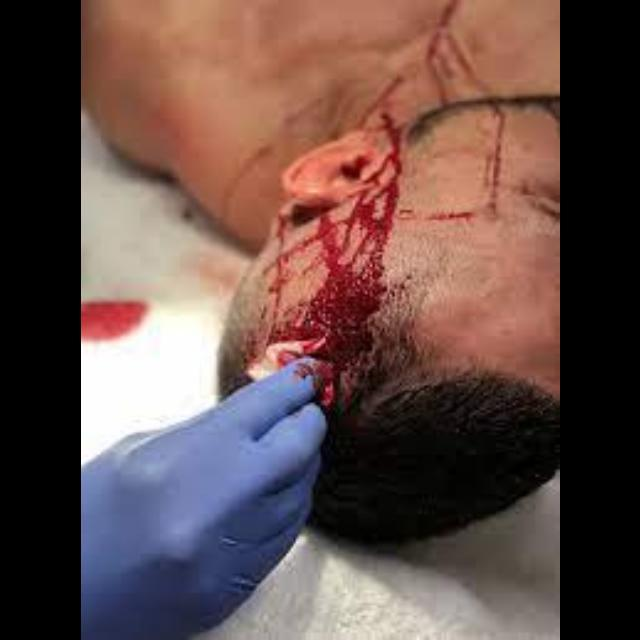blood: (260, 119, 401, 372), (426, 0, 490, 105), (246, 340, 327, 379), (80, 304, 147, 340), (362, 74, 401, 127), (488, 109, 507, 214), (317, 361, 335, 406), (428, 214, 475, 221)
